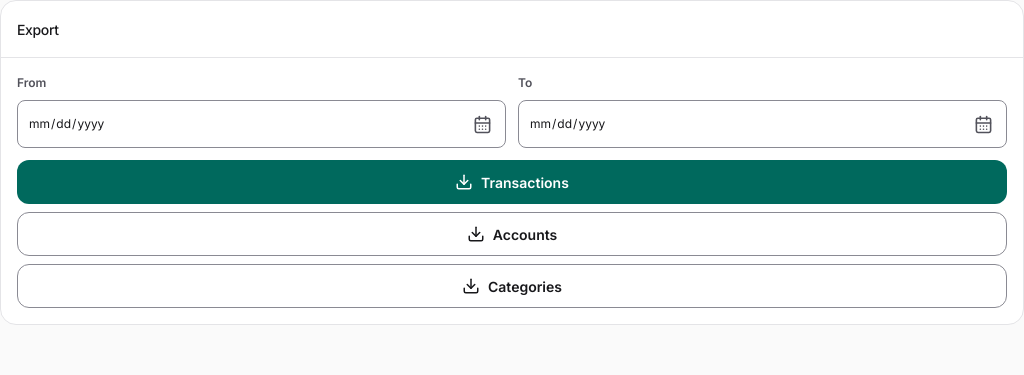
Test: ExportCard › blocks a backwards date range
Type "2026-10-09" into the date field named "From date" at (262,124), box left=17, top=100, right=506, bottom=148
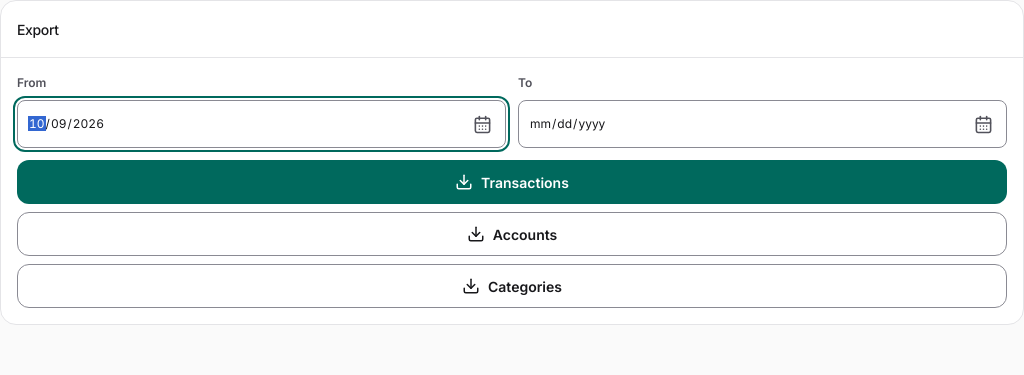
Type "2026-10-01" into the date field named "To date" at (762,124), box left=518, top=100, right=1007, bottom=148
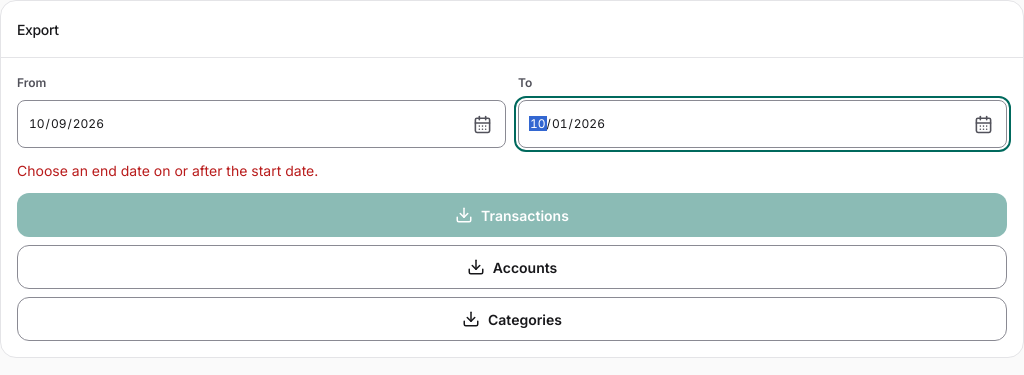
Expected: the message "Choose an end date on or after the start date." is shown, left=17, top=162, right=318, bottom=179
Expected: the button with aria-label "Download transactions" is disabled, left=17, top=193, right=1007, bottom=237
